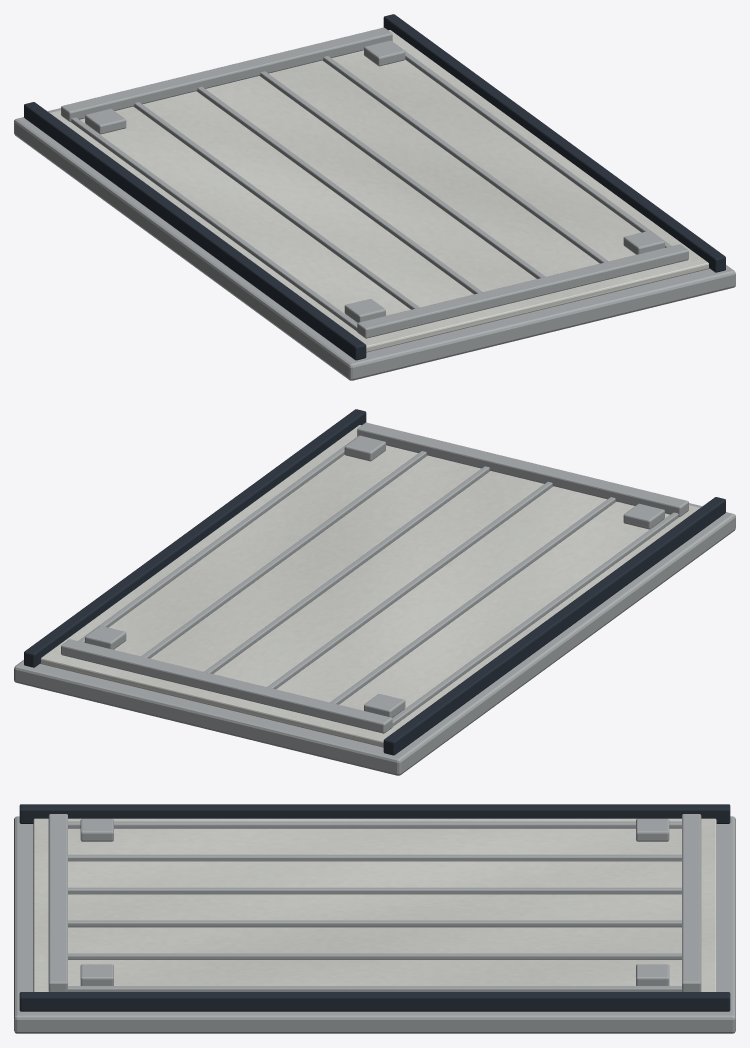
File: spacecraft_radiator.glb
3 views of the same model, one above another, from view 1: azimuth 30°, elevation 25°; view 2: azimuth 150°, elevation 25°; view 3: azimuth 270°, elevation 25° (orthographic). The views are drawn at different scales.
Parts seen in each view (by area): view 1: Radiating_Surface, Radiator_Backplate, Radiator_EdgeFrame, Radiator_EdgeFrame.001, Radiator_Manifold, Radiator_Manifold.001, HeatPipe_Trace, HeatPipe_Trace.001, HeatPipe_Trace.003, HeatPipe_Trace.002, HeatPipe_Trace.004, HeatPipe_Trace.005 (+4 smaller); view 2: Radiating_Surface, Radiator_Backplate, Radiator_EdgeFrame, Radiator_EdgeFrame.001, Radiator_Manifold.001, Radiator_Manifold, HeatPipe_Trace, HeatPipe_Trace.001, HeatPipe_Trace.003, HeatPipe_Trace.002, HeatPipe_Trace.004, HeatPipe_Trace.005 (+4 smaller); view 3: Radiating_Surface, Radiator_Backplate, Radiator_EdgeFrame.001, Radiator_EdgeFrame, HeatPipe_Trace.001, HeatPipe_Trace.002, HeatPipe_Trace.003, HeatPipe_Trace, HeatPipe_Trace.004, HeatPipe_Trace.005, Radiator_Manifold, Radiator_Manifold.001 (+4 smaller).
Boxes of the visible parts, x1,y1,x2,y2 form: Radiating_Surface: (50,30,709,352); Radiator_Backplate: (14,108,735,380); Radiator_EdgeFrame: (24,102,366,360); Radiator_EdgeFrame.001: (383,14,725,272); Radiator_Manifold: (357,244,688,338); Radiator_Manifold.001: (61,27,392,121); HeatPipe_Trace: (71,117,357,331); HeatPipe_Trace.001: (133,102,419,309); HeatPipe_Trace.003: (259,71,545,278); HeatPipe_Trace.002: (196,86,482,294); HeatPipe_Trace.004: (322,56,608,263); HeatPipe_Trace.005: (390,40,671,247); Radiating_Surface: (40,425,699,747); Radiator_Backplate: (14,503,735,775); Radiator_EdgeFrame: (383,497,725,755); Radiator_EdgeFrame.001: (24,409,366,667); Radiator_Manifold.001: (61,639,392,733); Radiator_Manifold: (357,422,688,516); HeatPipe_Trace: (392,512,678,726); HeatPipe_Trace.001: (330,497,616,704); HeatPipe_Trace.003: (204,466,490,673); HeatPipe_Trace.002: (267,481,553,689); HeatPipe_Trace.004: (141,451,427,658); HeatPipe_Trace.005: (78,435,359,642); Radiating_Surface: (33,818,716,991); Radiator_Backplate: (14,816,735,1033); Radiator_EdgeFrame.001: (19,992,730,1011); Radiator_EdgeFrame: (19,804,730,823); HeatPipe_Trace.001: (68,854,681,861); HeatPipe_Trace.002: (68,887,681,894); HeatPipe_Trace.003: (68,920,681,927); HeatPipe_Trace: (68,821,681,828); HeatPipe_Trace.004: (68,953,681,959); HeatPipe_Trace.005: (68,986,681,991); Radiator_Manifold: (48,814,67,991); Radiator_Manifold.001: (682,814,701,991).
Size of the model in its own units: 0.86 by 0.072 by 1.3.
Materials: 3 (1 with a texture image).
